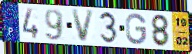3: (99, 10, 119, 45)
4: (22, 7, 41, 40)
8: (150, 13, 171, 48)
9: (44, 8, 66, 41)
G: (125, 13, 148, 46)
V: (71, 10, 96, 44)
